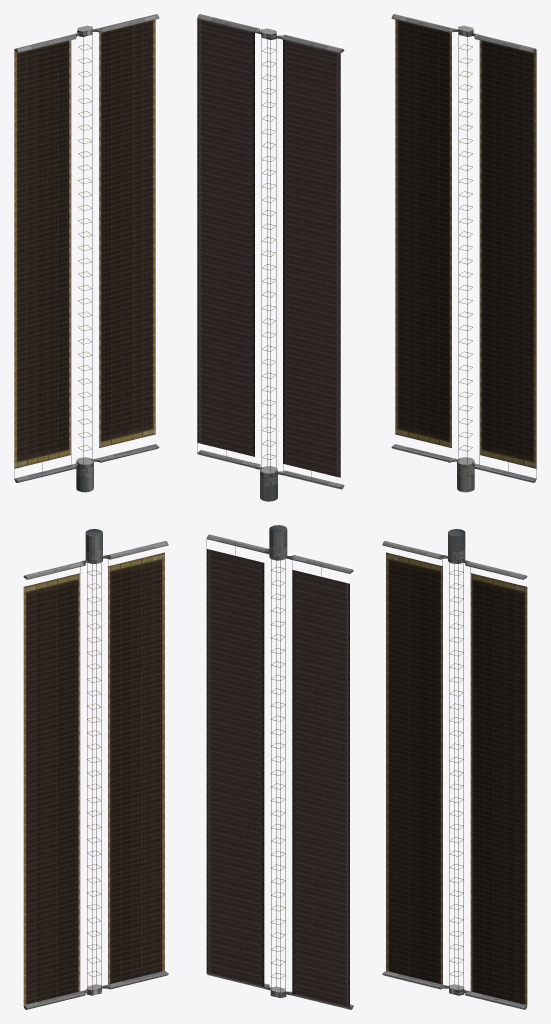
Rendered from solar_array_right.glb.
3 views of the same model, side by side, from view 1: azimuth 30°, elevation 25°; view 2: azimuth 150°, elevation 25°; view 3: azimuth 330°, elevation 25° (orthographic).
Bounding box in the file's own units: 12.08 × 78.16 × 2.68.
3 materials, 3 textured.
